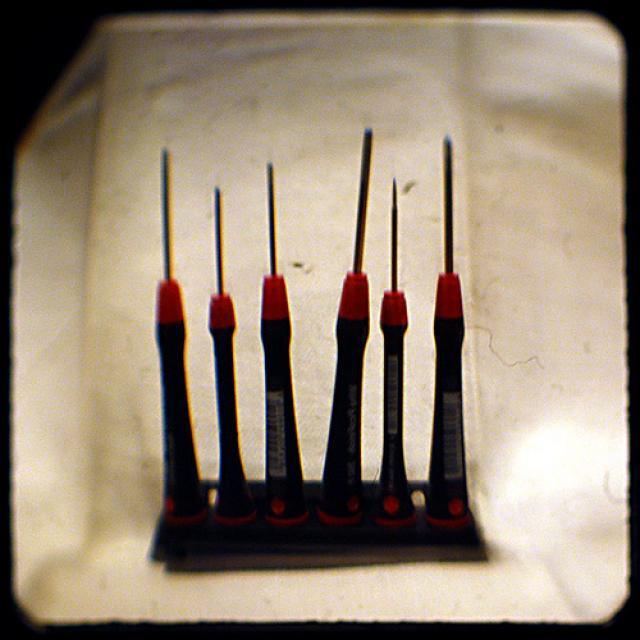screw driver: (125, 130, 218, 498), (424, 124, 491, 508)
